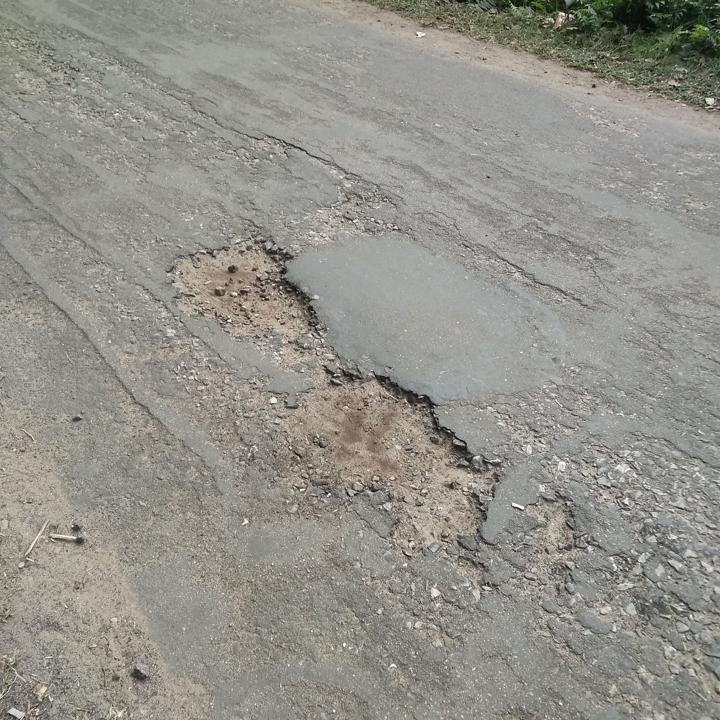pothole: (270, 368, 498, 547), (159, 230, 331, 352), (523, 498, 580, 558)
